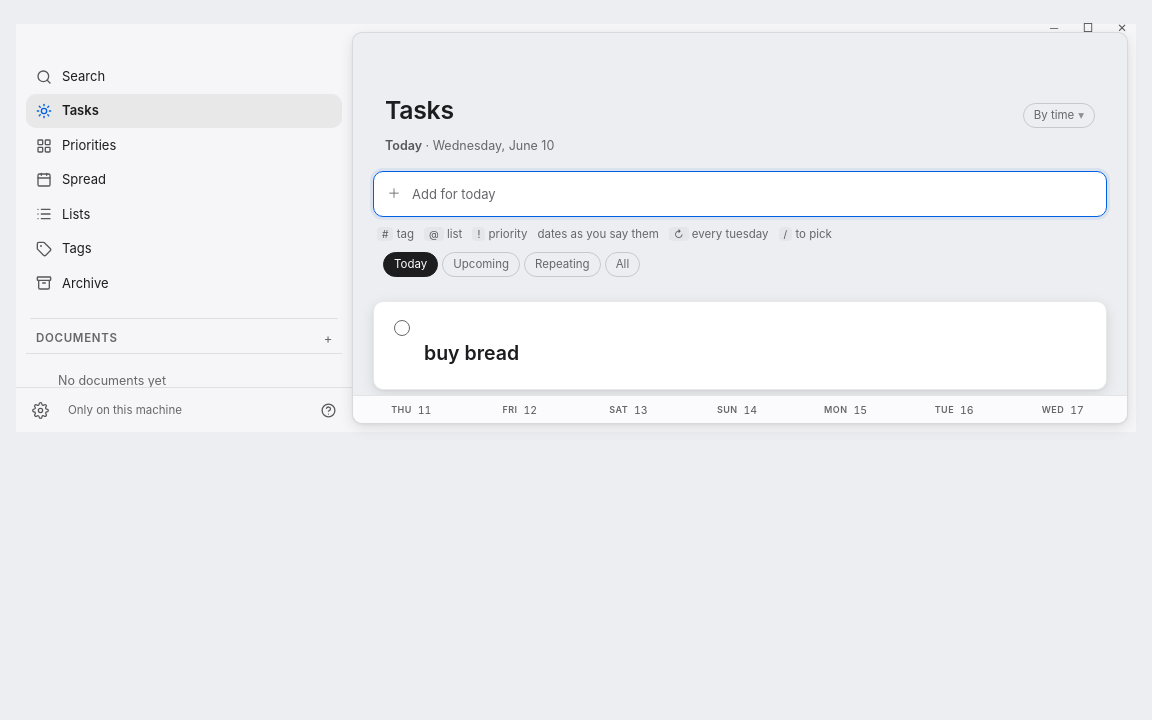
the thumbs up after closing a task › shows up once a task is closed, and its undo opens the task again
Expected: the heading "buy bread" is shown, x1=424 y1=341 x2=519 y2=365
Click the button named "complete buy bread": [402, 328] box x1=394 y1=320 x2=410 y2=336
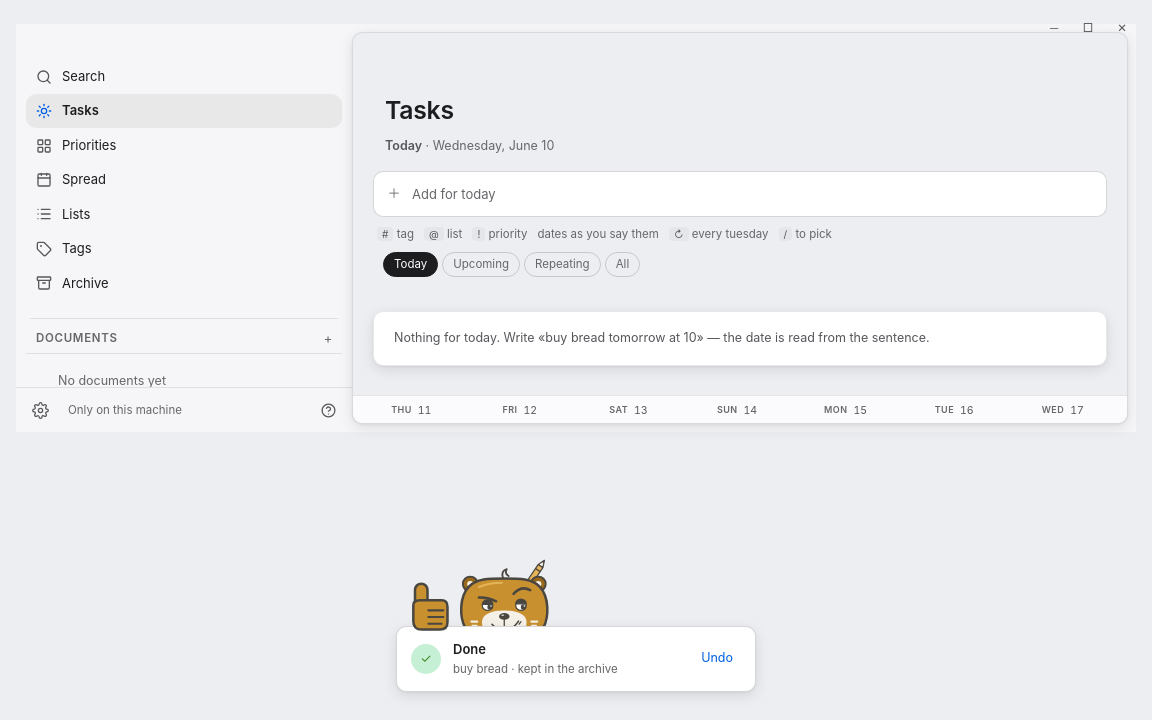
Click the button "Undo": [717, 659] box x1=693 y1=644 x2=741 y2=673
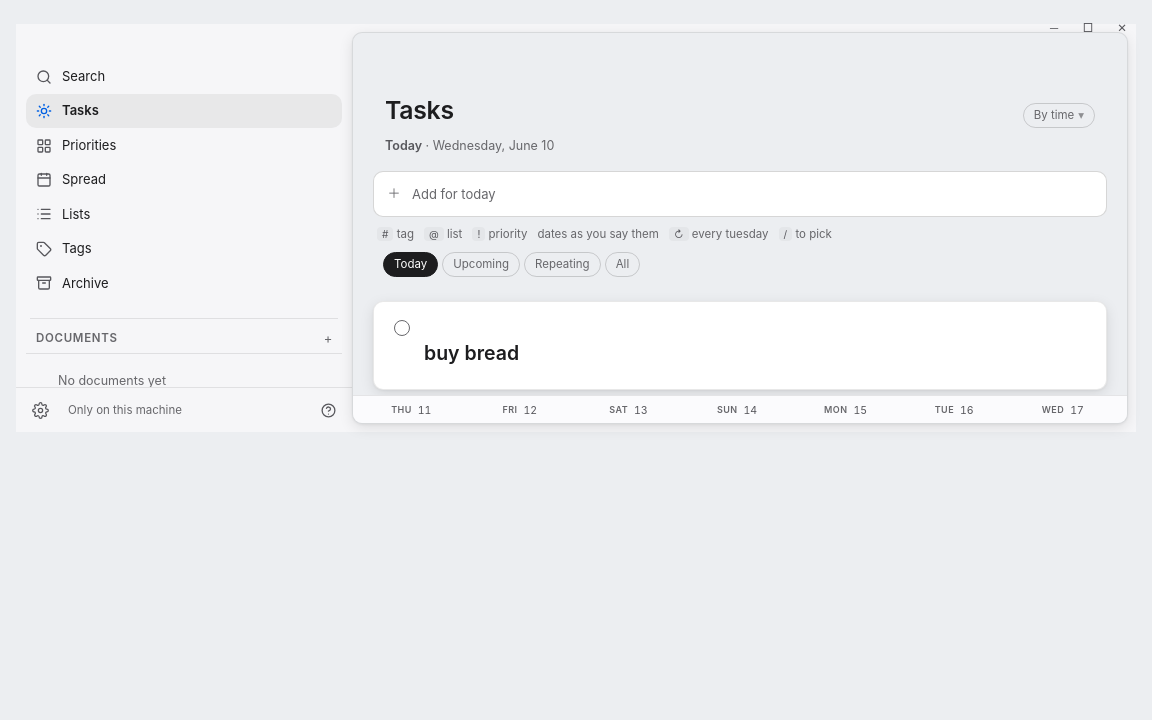
Expected: the button "Undo" is gone
